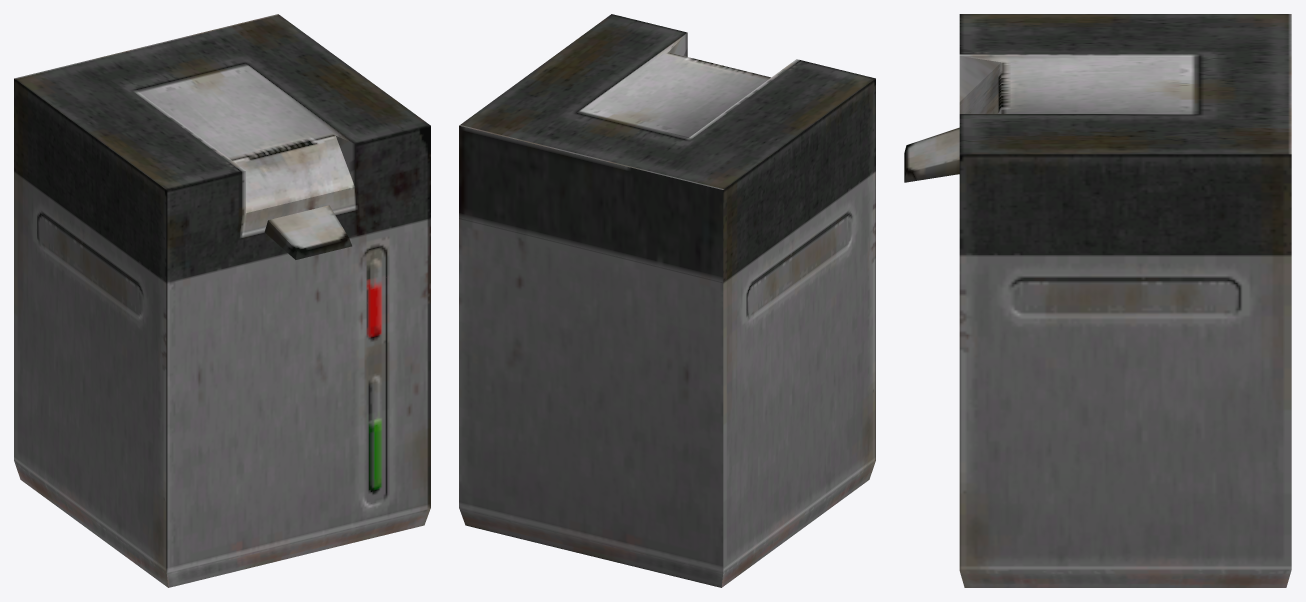
The model's file is thm_prp_drall_medicine_l1.fbx.
The picture shows the model from 3 angles, left to right: view 1: azimuth 30°, elevation 25°; view 2: azimuth 150°, elevation 25°; view 3: azimuth 270°, elevation 25°; orthographic projection. The views are drawn at different scales.
Parts seen in each view (by area): view 1: mesh_node; view 2: mesh_node; view 3: mesh_node.
Part boxes in pixels (left/top/right/bottom): mesh_node: left=14, top=14, right=430, bottom=587; mesh_node: left=459, top=14, right=875, bottom=587; mesh_node: left=904, top=14, right=1291, bottom=587.
Size of the model in its own units: 0.2101 by 0.3043 by 0.2449.
